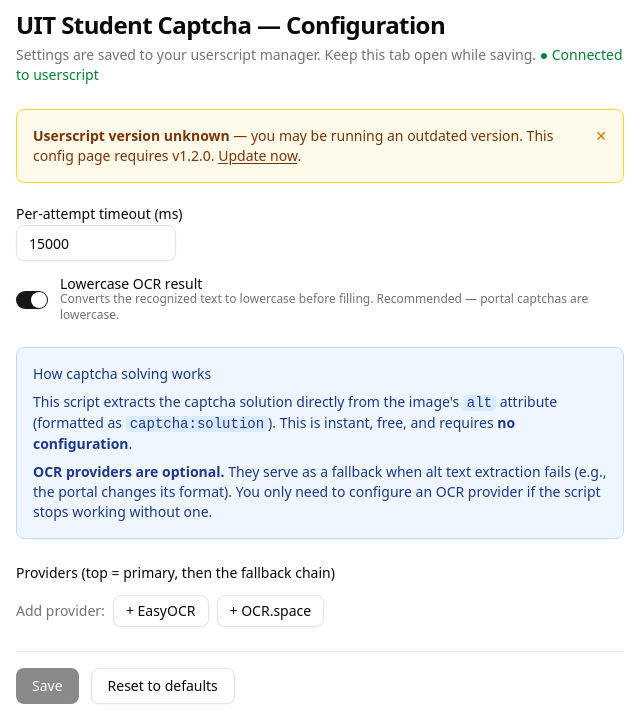
Scenario: App › posts uoc:set on Save and shows the ack
This screenshot has width=641, height=721.
Replace the text in the number field labelled "Per-attempt timeout (ms)" with "20000": {"x": 96, "y": 243} [16,225,176,261]
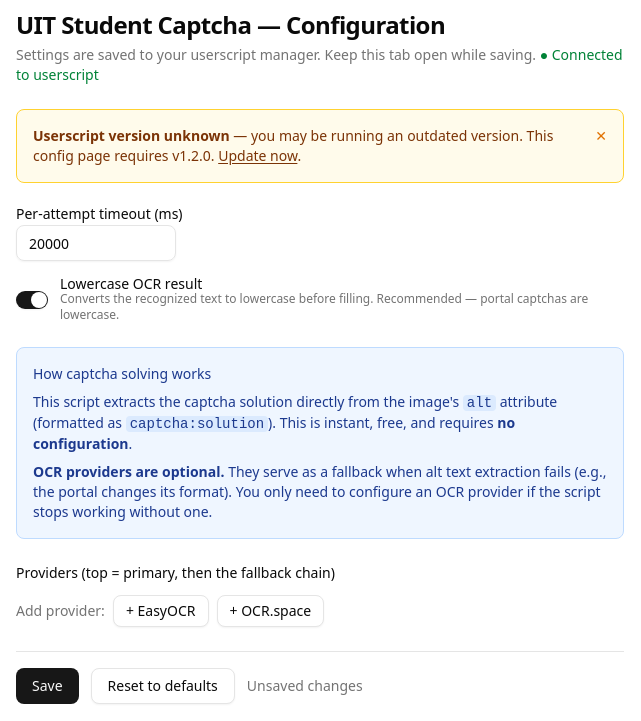
Click the button "Save": {"x": 47, "y": 686} [16,668,79,704]
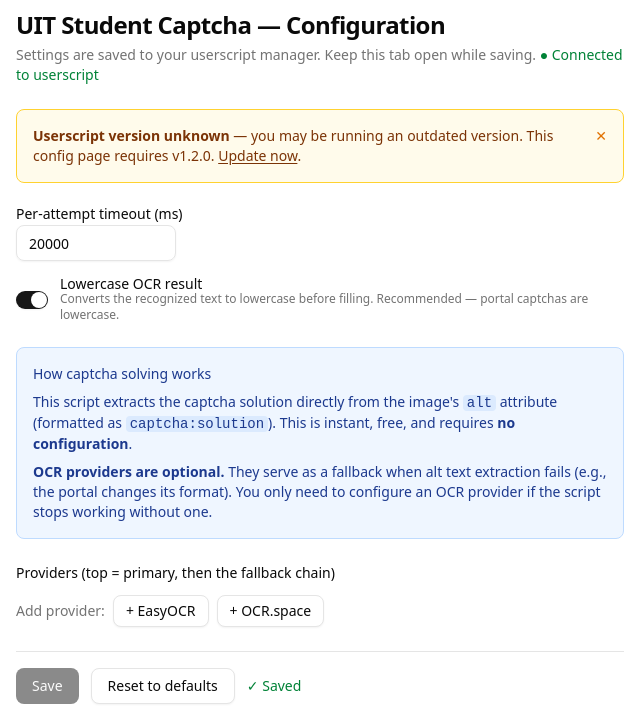
Now the text "✓ Saved" is shown, box [247,676,301,696]
